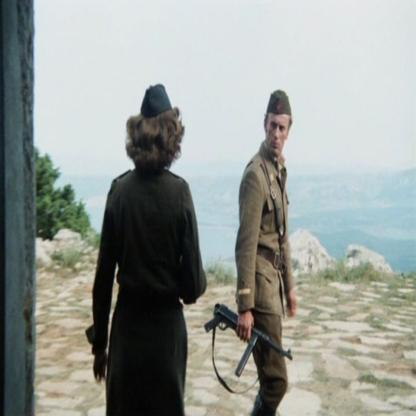gun: (207, 291, 302, 378)
